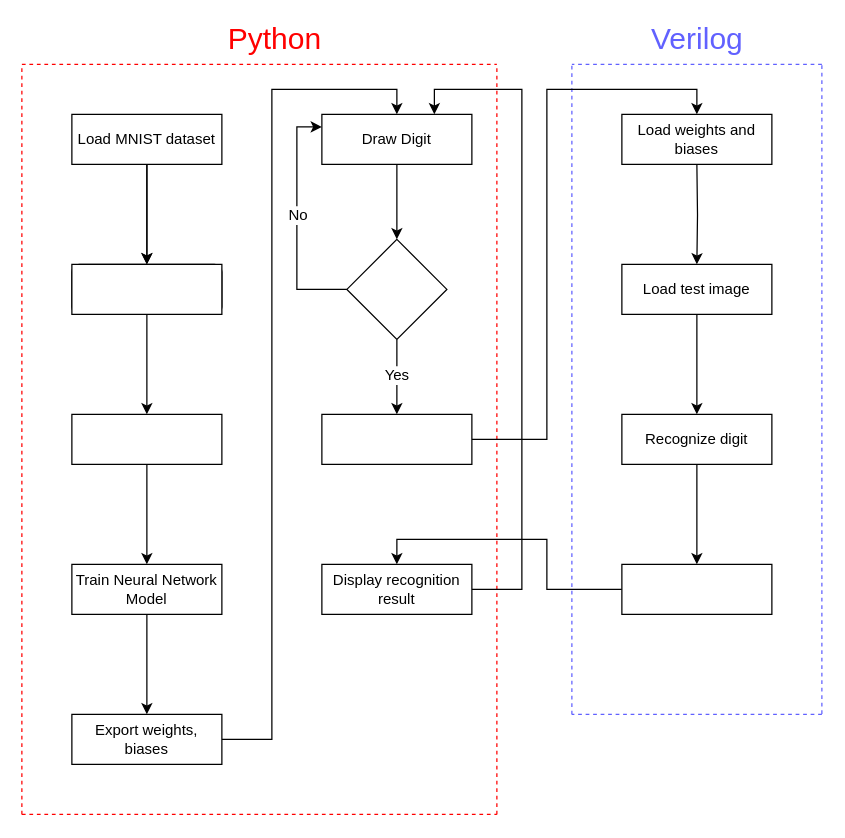
Some shapes in this 845 by 838 pixel diagram are drawn without their labels. Here are the shapes that lost their labels. From the top down, the centre of each, then its label:
At [146,288]: "Preprocess dataset".
At [396,288]: "Finish drawing".
At [146,438]: "Build Neural Network Model".
At [396,438]: "Output to image".
At [696,588]: "Return recognition result".
